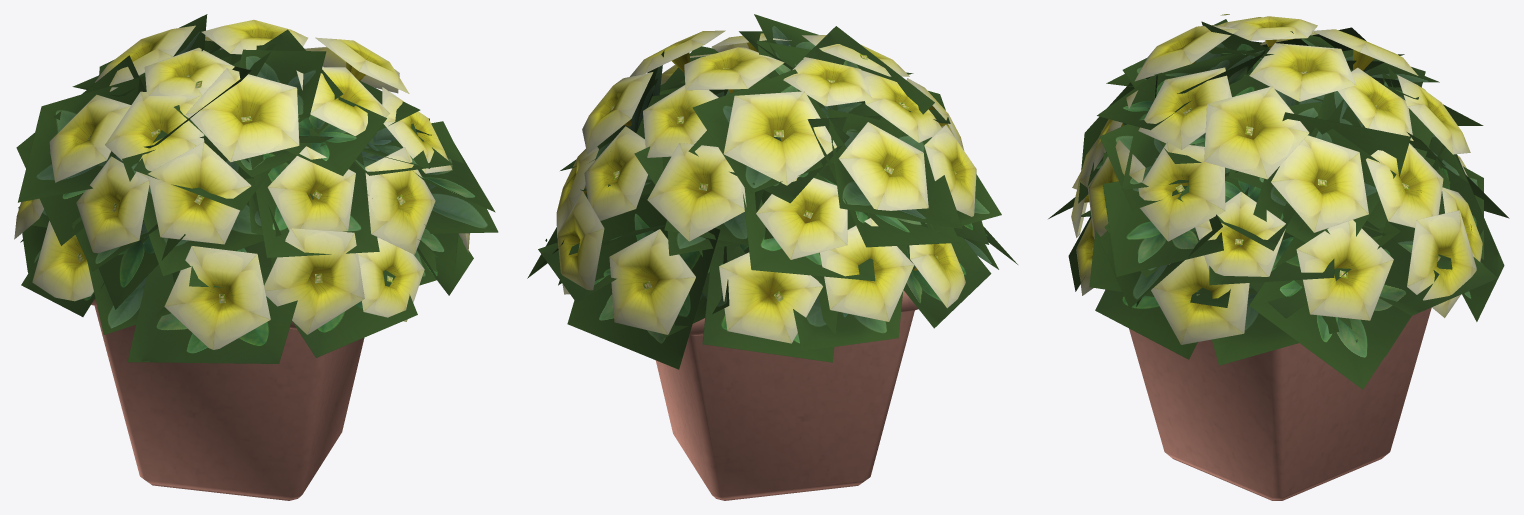
File: Furniture_foliageplant_09_LOD0.fbx
3 renders of one model, left to right at view 1: azimuth 30°, elevation 25°; view 2: azimuth 150°, elevation 25°; view 3: azimuth 270°, elevation 25°, orthographic. The views are drawn at different scales.
Visible parts, largest first — view 1: F_foliageplant_09_LOD0_01, F_foliageplant_09_LOD0_02; view 2: F_foliageplant_09_LOD0_01, F_foliageplant_09_LOD0_02; view 3: F_foliageplant_09_LOD0_01, F_foliageplant_09_LOD0_02.
Boxes of the visible parts, <box> form: F_foliageplant_09_LOD0_01: <box>14,14,498,363</box>; F_foliageplant_09_LOD0_02: <box>91,298,364,500</box>; F_foliageplant_09_LOD0_01: <box>527,14,1017,369</box>; F_foliageplant_09_LOD0_02: <box>656,290,918,500</box>; F_foliageplant_09_LOD0_01: <box>1048,14,1509,389</box>; F_foliageplant_09_LOD0_02: <box>1129,307,1431,500</box>.
Size of the model in its own units: 36.18 by 35.39 by 35.03.
